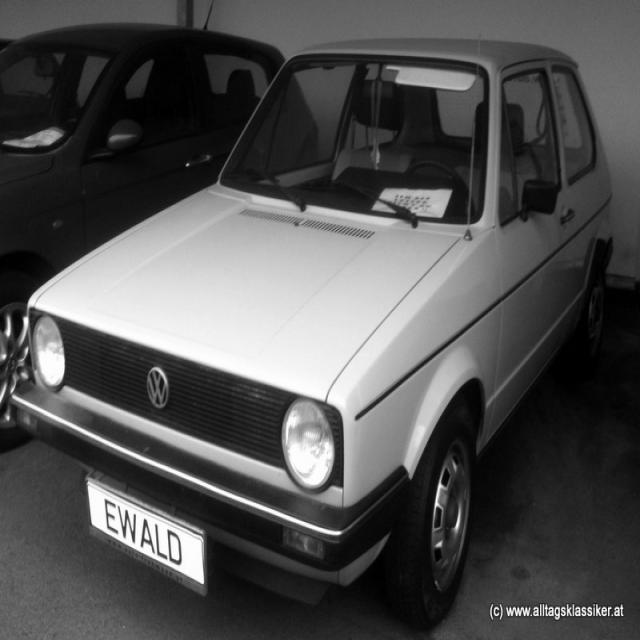car: (8, 34, 614, 630)
